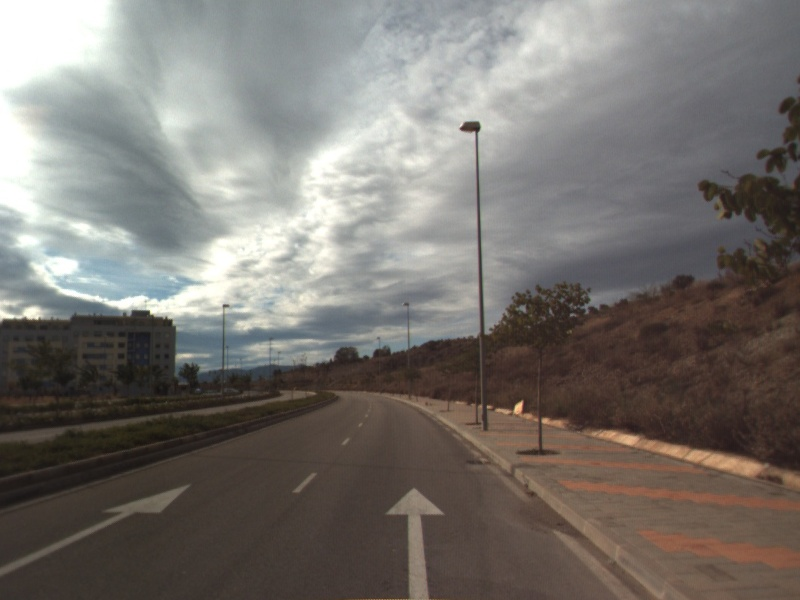STRAIGHT: (1, 482, 195, 578), (383, 485, 448, 600)
